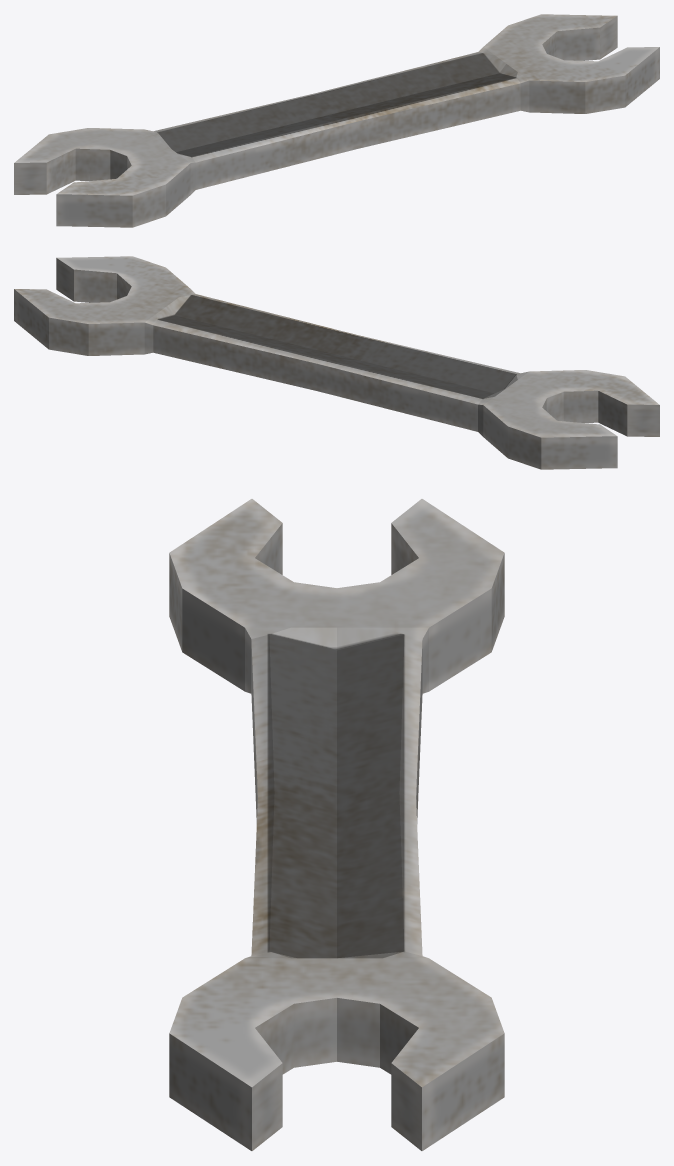
File: Wrench.fbx
The picture shows the model from 3 angles, top to bottom: view 1: azimuth 30°, elevation 25°; view 2: azimuth 150°, elevation 25°; view 3: azimuth 270°, elevation 25°; orthographic projection. The views are drawn at different scales.
Visible parts, largest first — view 1: Wrench; view 2: Wrench; view 3: Wrench.
Part boxes in pixels (x1,y1,x2,y2): Wrench: [14, 14, 659, 227]; Wrench: [14, 256, 659, 469]; Wrench: [169, 499, 504, 1150].
Bounding box in the file's own units: 125 × 6.33 × 30.07.
